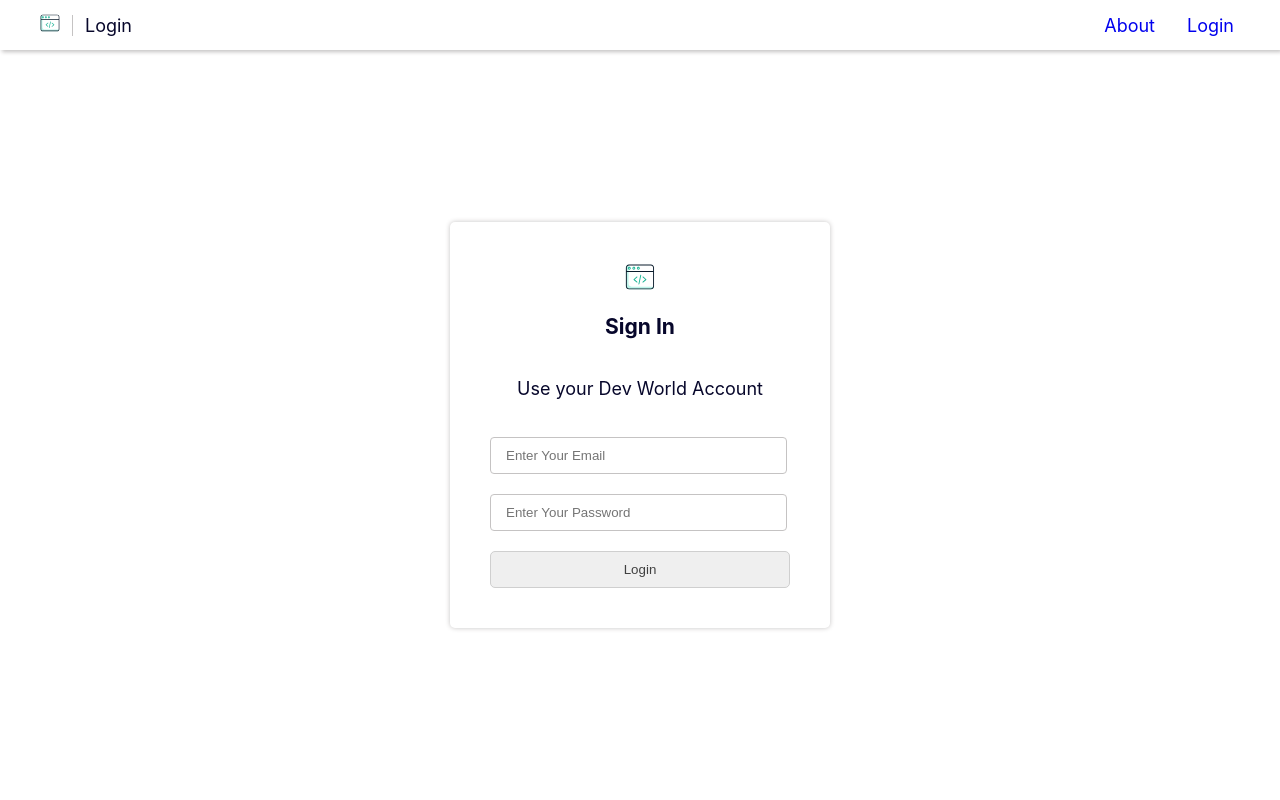
login into website › visit login page and sign in and show error when request fails
The width and height of the screenshot is (1280, 800).
Type "test@gmail.com" into the field with test id "email".
click(639, 456); type("test@gmail.com")  # box [490,437,787,474]
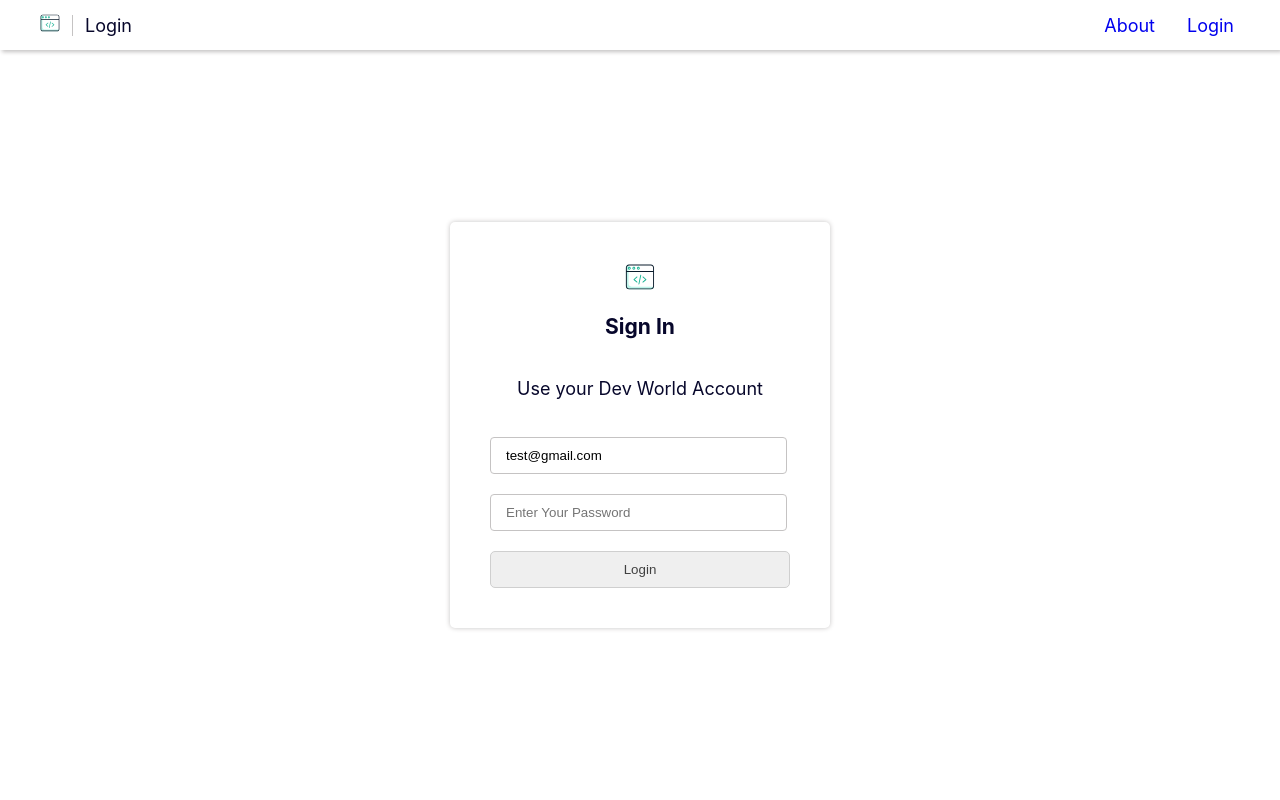
Type "Password" into the password field with test id "password".
click(639, 513); type("Password")  # box [490,494,787,531]
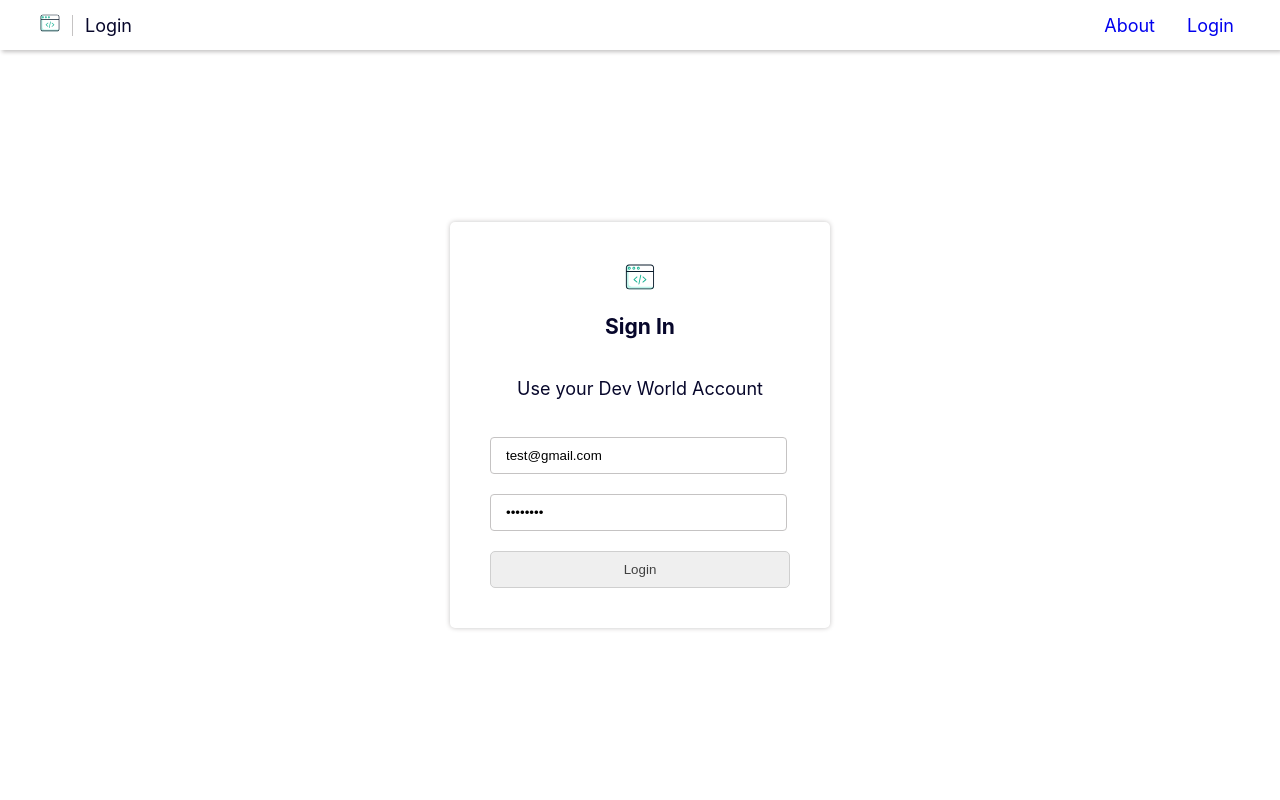
Click the button.
click(640, 570)  # box [490,551,790,588]
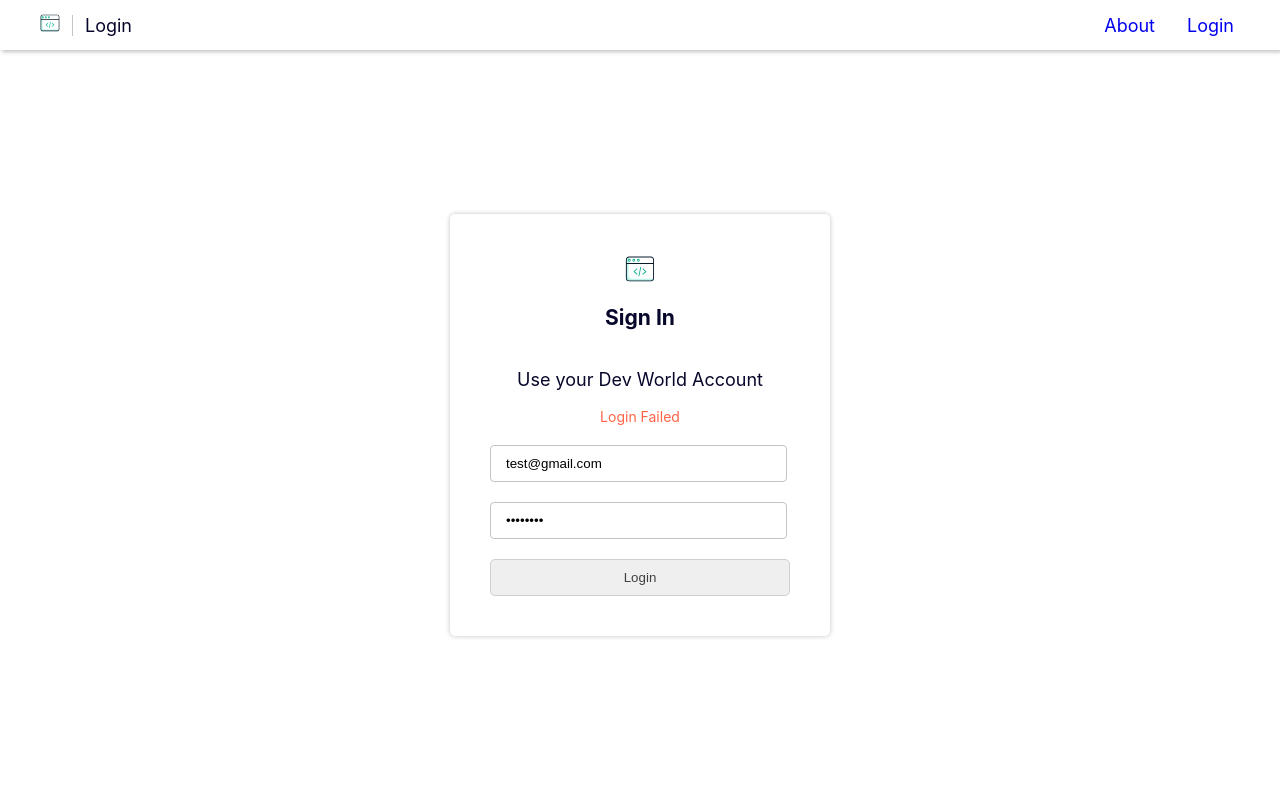
Check: the text "Login Failed" is shown, box [600,408,680,425]
